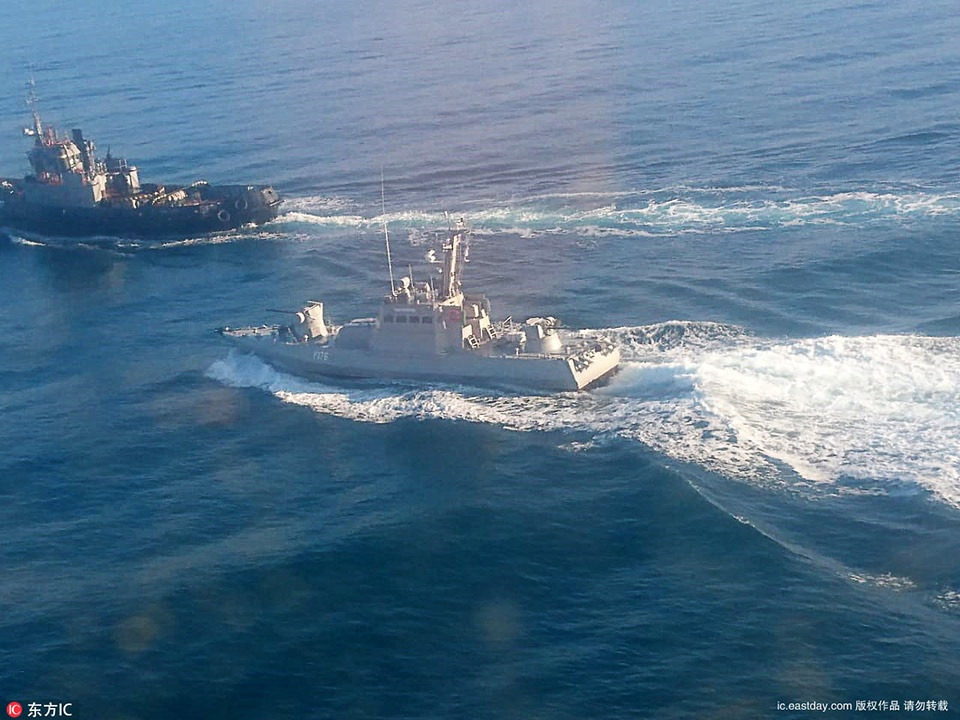otherboat: (1, 102, 273, 232)
warship: (223, 205, 625, 403)
